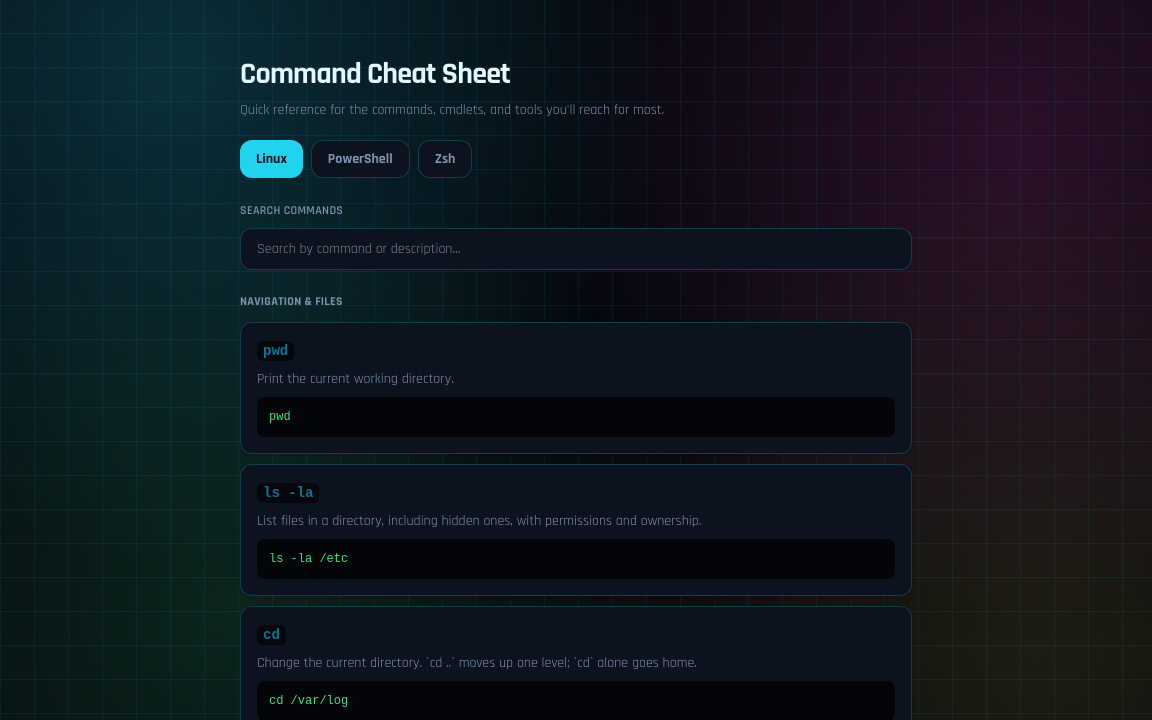
Test: Cheat Sheet page › restores the full list when the query is cleared
The width and height of the screenshot is (1152, 720).
Type "process" into the search field labelled "Search commands" at (576, 249), box [240, 228, 912, 270]
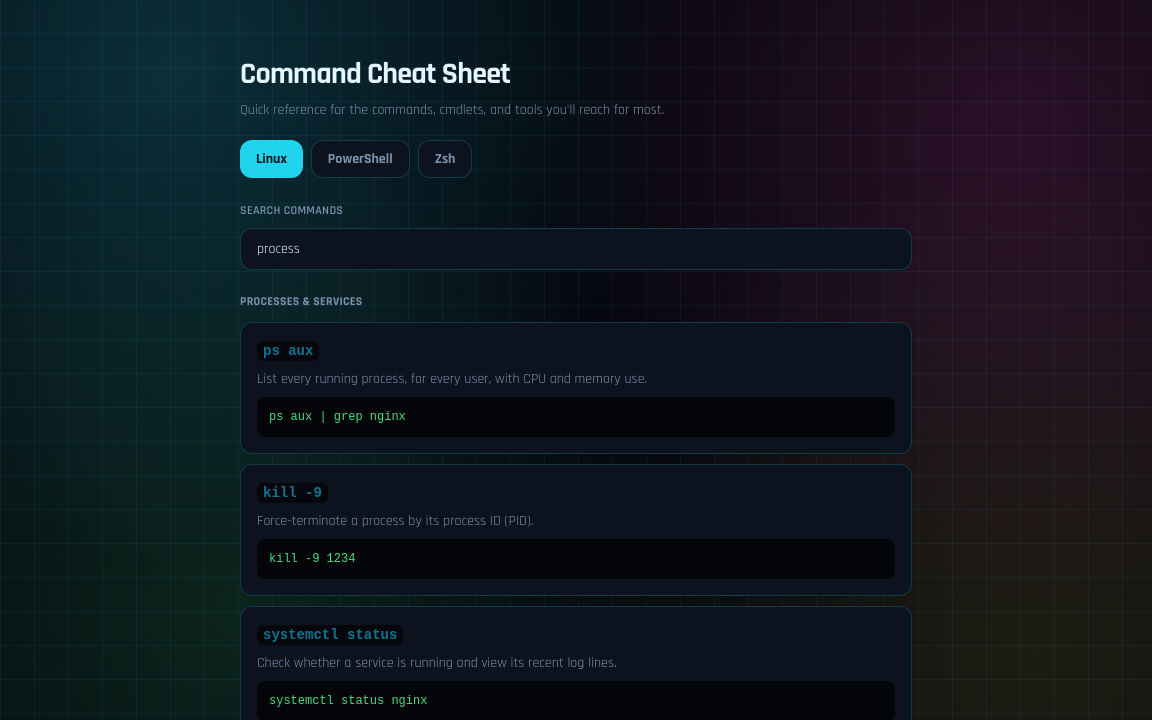
Clear the search field labelled "Search commands" at (576, 249), box [240, 228, 912, 270]
(page scrolled)
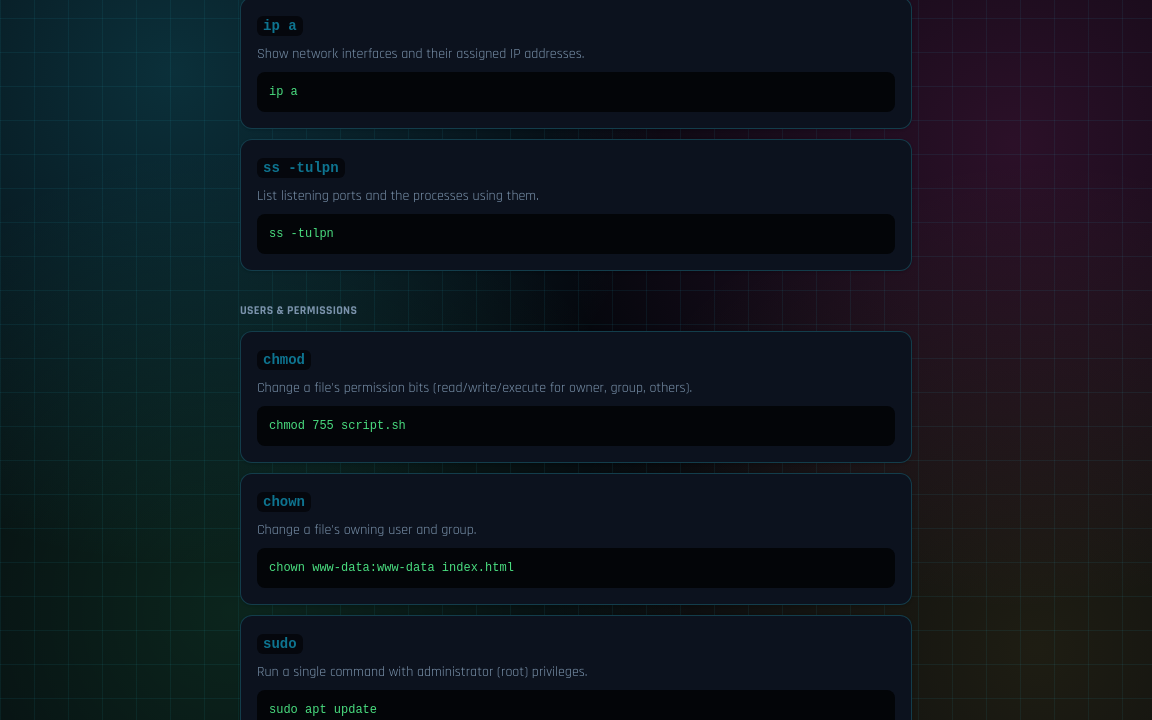
Expected: the text "chmod" is shown, [257, 350, 311, 370]
